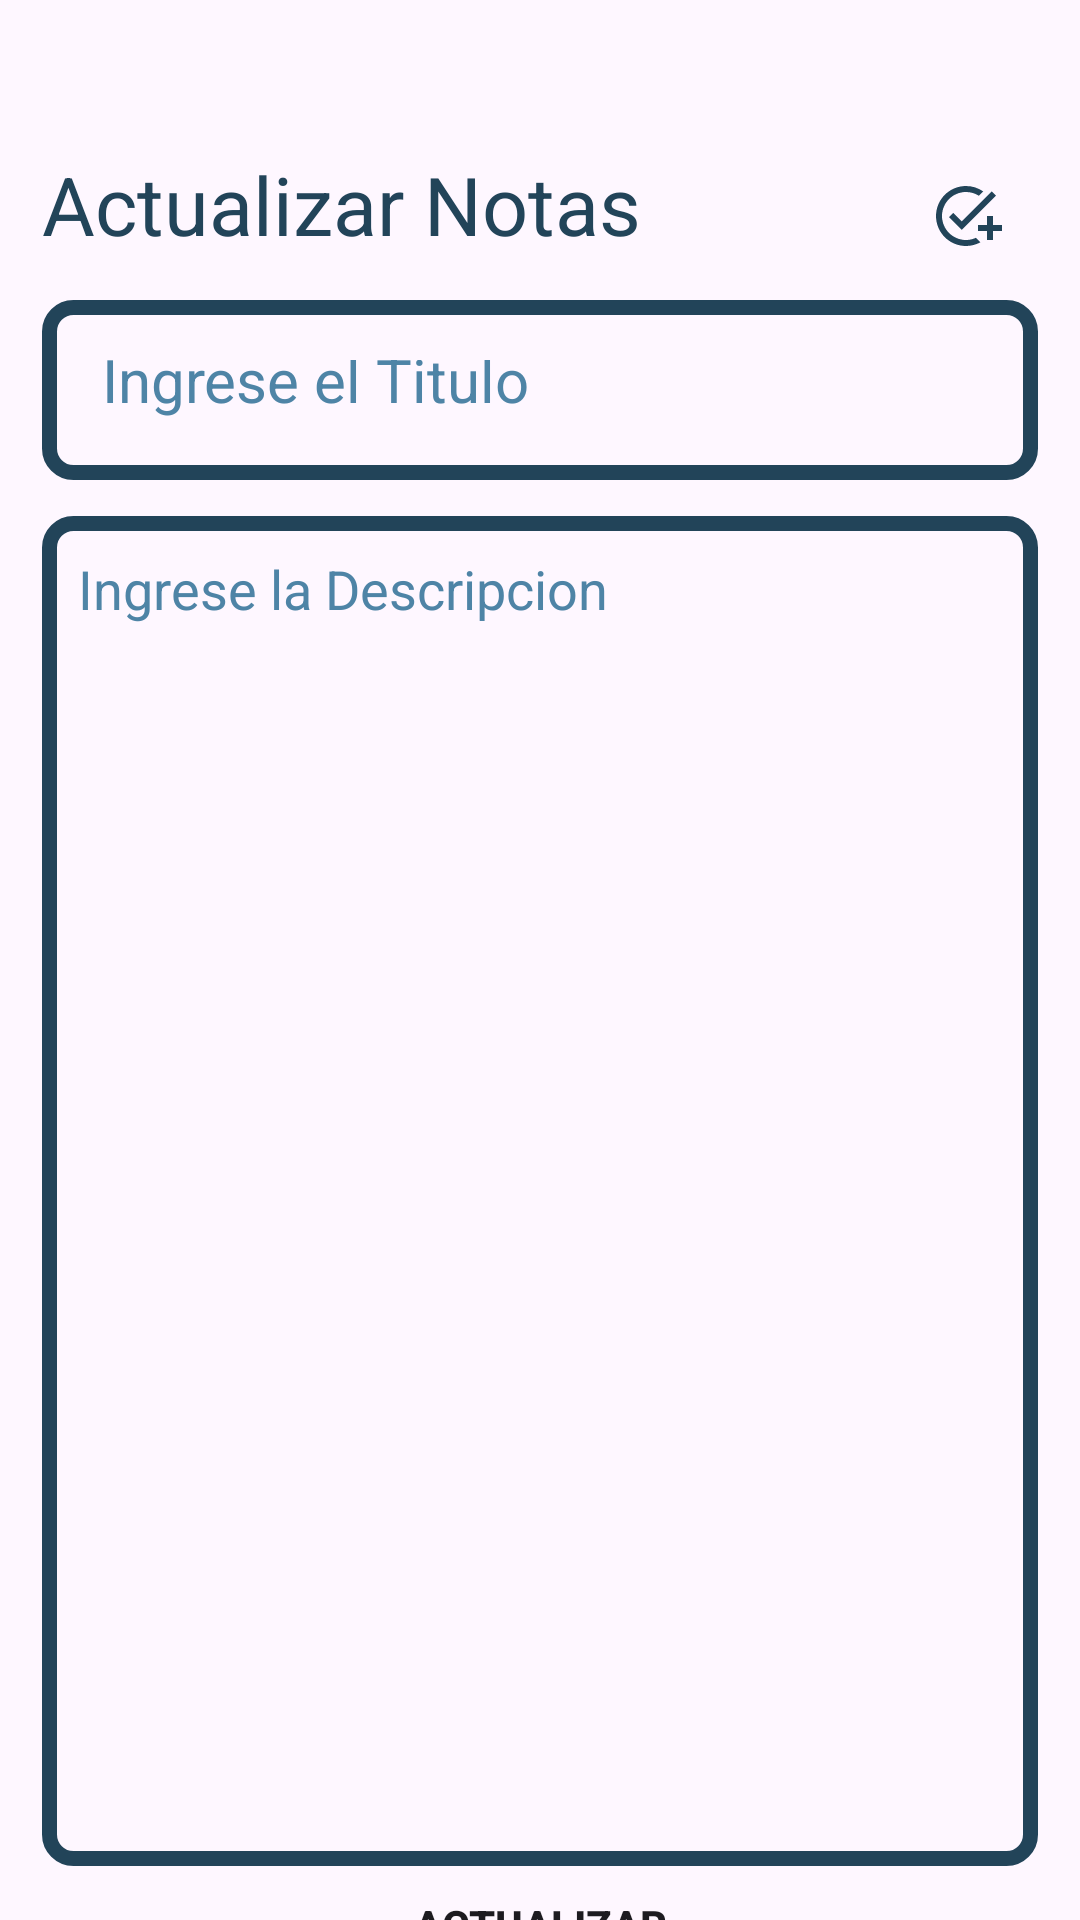

Icon click points for this 1080x1920 phone screenshot, format (x=x, y=y):
Imagen Tarea: (x=969, y=216)
